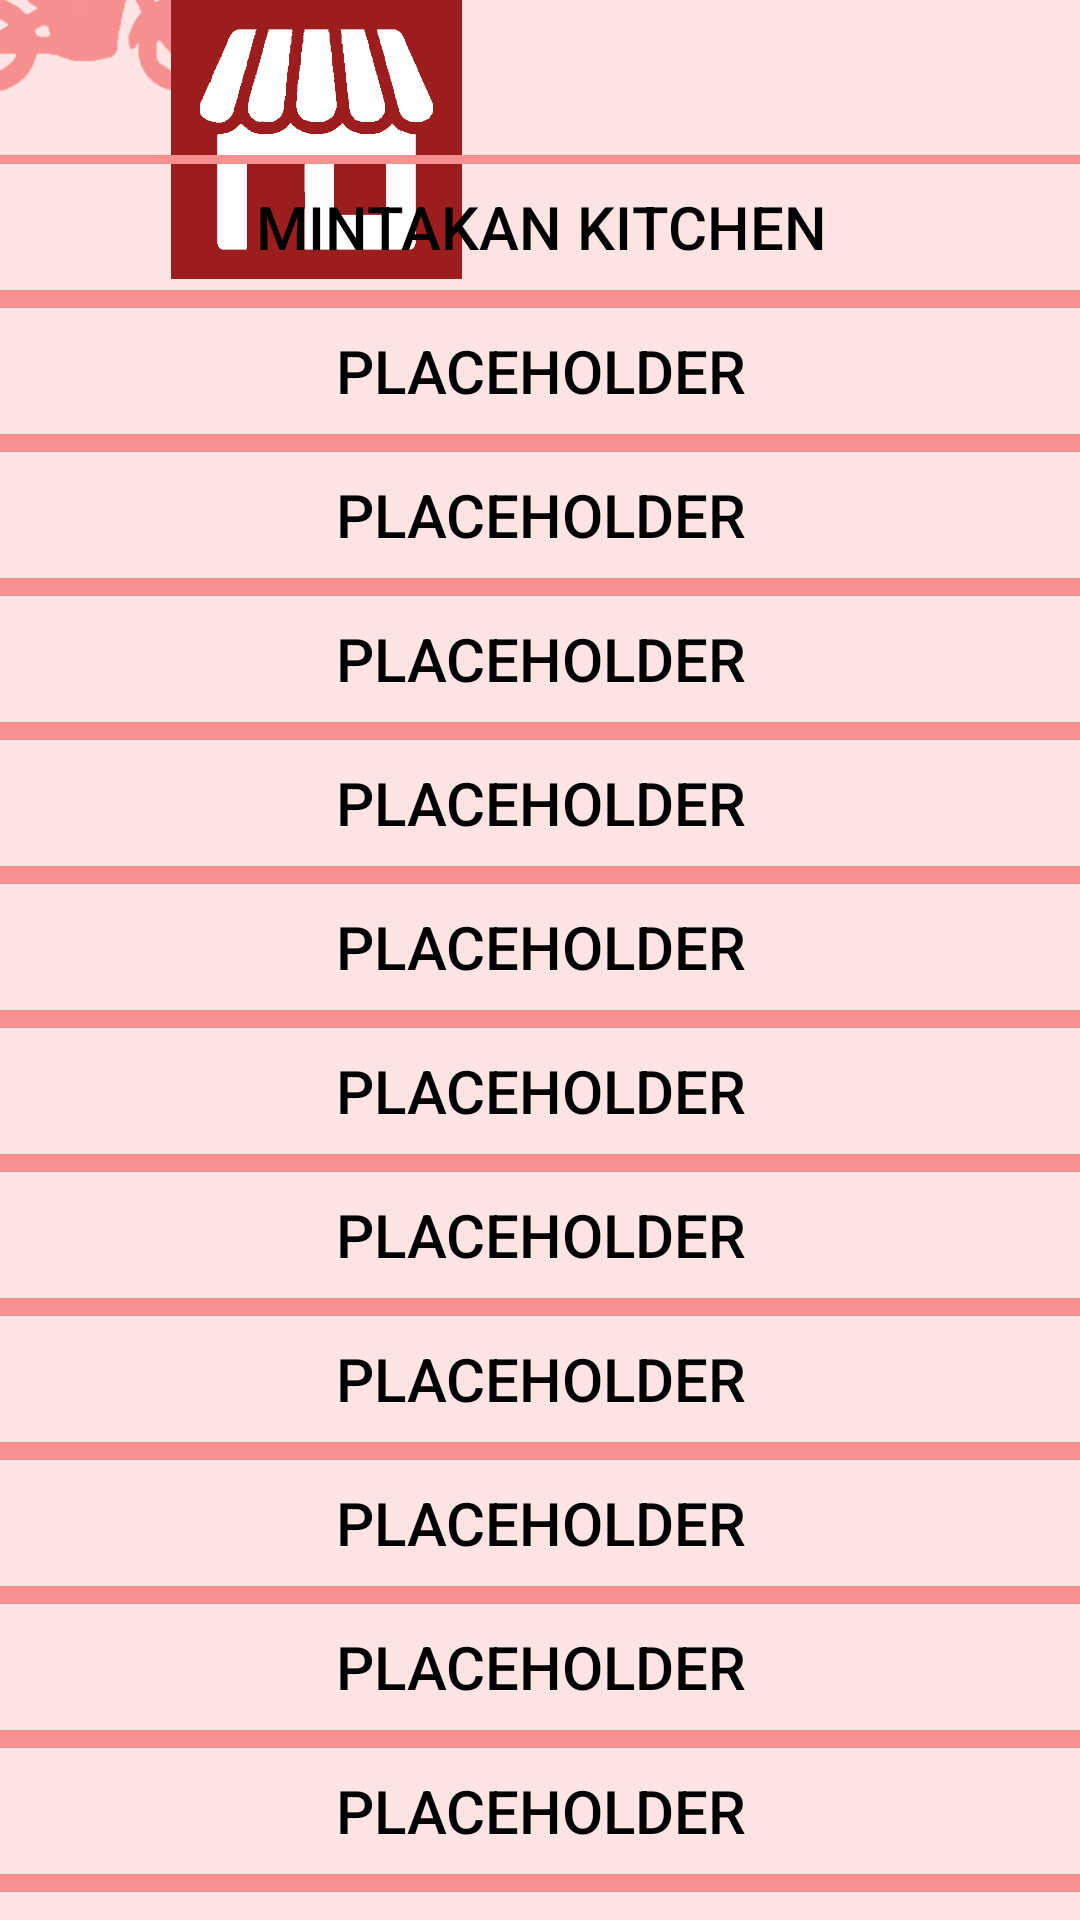

Icons on this 1080px×1920px Android screen, each with the point to tap as point (x, y):
shop: point (316, 139)
